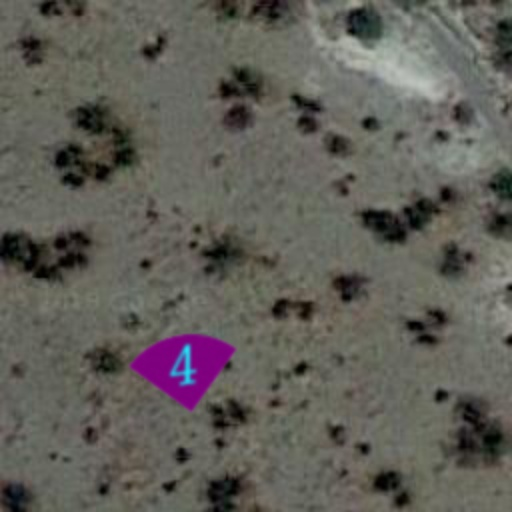quarter_circle: (124, 306, 244, 426)
